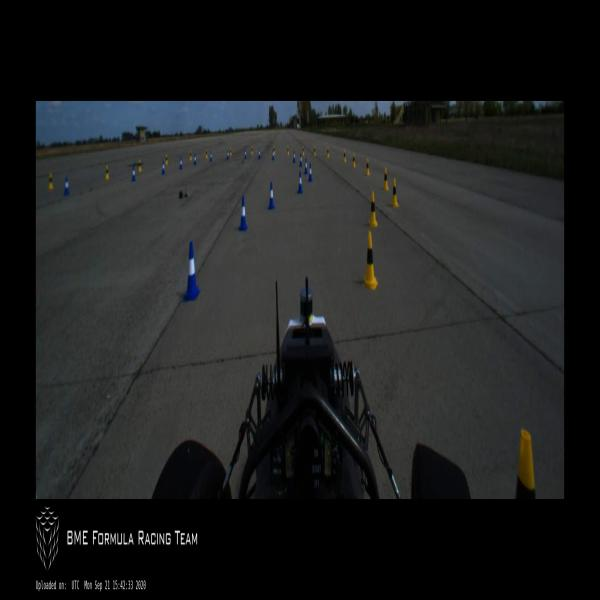blue_cone: (183, 242, 199, 300), (238, 195, 247, 230), (268, 182, 274, 208), (64, 176, 70, 196), (298, 170, 302, 193), (308, 163, 312, 183), (132, 164, 136, 182), (305, 157, 308, 175), (162, 160, 165, 175), (299, 153, 302, 167), (179, 157, 182, 170), (293, 150, 295, 163), (194, 153, 196, 165), (210, 150, 212, 162), (258, 149, 260, 160), (272, 149, 274, 160), (227, 150, 229, 160), (245, 148, 246, 160)
yellow_cone: (515, 428, 536, 499), (363, 231, 378, 288), (369, 191, 378, 227), (391, 179, 398, 208), (383, 167, 388, 191), (48, 172, 53, 190), (366, 157, 370, 176), (105, 164, 109, 180), (138, 160, 142, 172), (352, 152, 355, 168), (343, 149, 346, 163), (165, 154, 168, 166), (273, 146, 276, 156), (326, 146, 328, 158), (302, 146, 304, 157), (314, 146, 316, 157), (190, 150, 192, 160), (287, 146, 289, 156), (206, 150, 208, 159), (251, 146, 253, 155), (230, 148, 231, 156)
